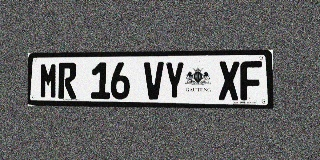1: (91, 62, 110, 99)
6: (111, 62, 130, 99)
F: (240, 61, 262, 100)
M: (40, 63, 58, 99)
R: (58, 62, 77, 99)
V: (144, 62, 164, 100)
X: (218, 61, 240, 100)
Y: (164, 62, 184, 100)
